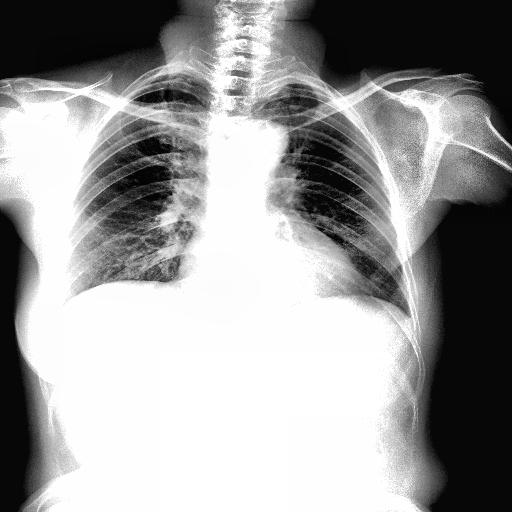0- Aortic enlargement: (242, 120, 290, 166), (242, 120, 288, 160)
3- Cardiomegaly: (176, 240, 361, 298), (175, 254, 364, 300)
6- Infiltration: (282, 82, 318, 114)
7- Lung Opacity: (282, 82, 318, 114)
